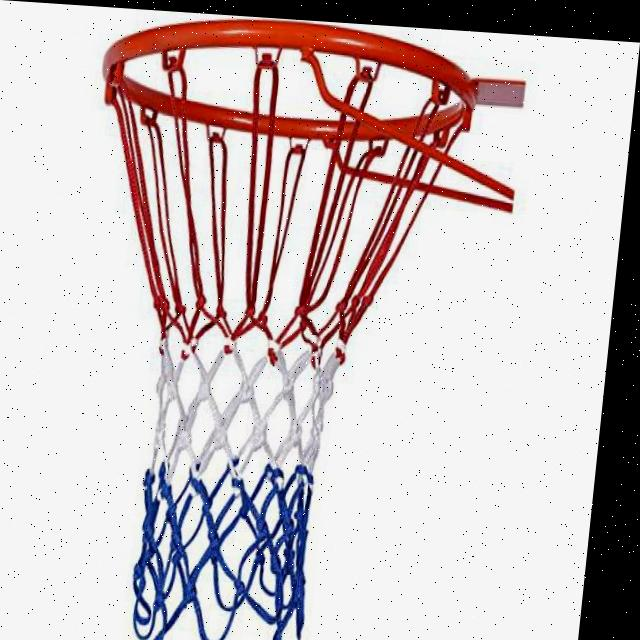hoop: (43, 7, 483, 640)
